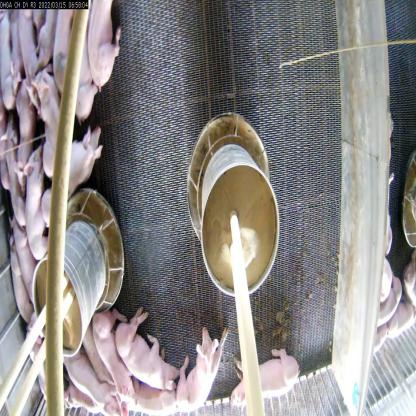Pig: (40, 119, 106, 231), (90, 304, 142, 416), (114, 305, 180, 391), (174, 323, 230, 412), (15, 147, 56, 266), (30, 68, 73, 178), (58, 343, 120, 413), (229, 351, 300, 408), (90, 0, 128, 93)
